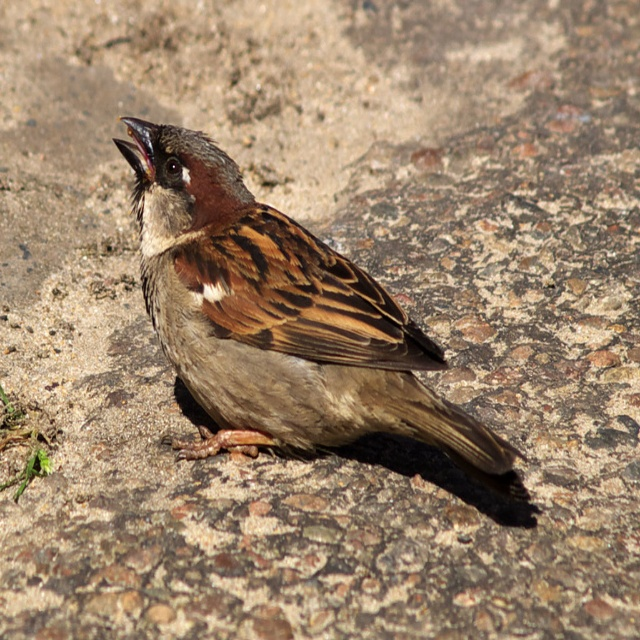Sparrow: (110, 115, 530, 475)
